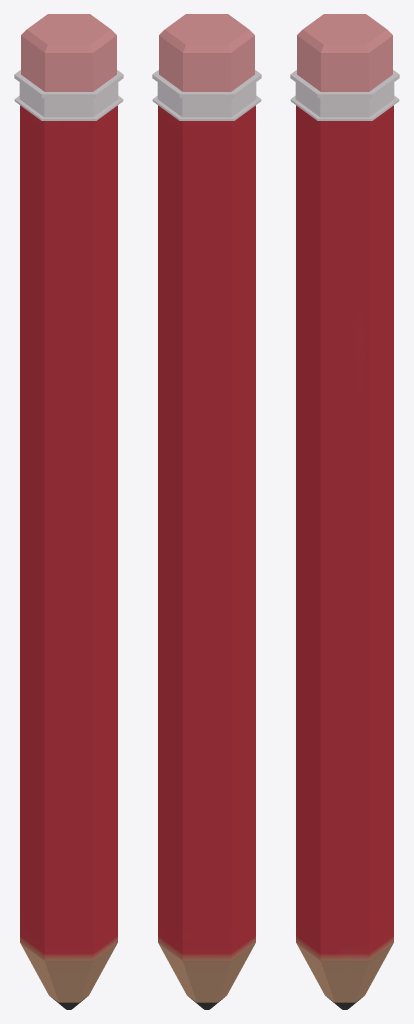
The model's file is Pencil.glb.
3 views of the same model, side by side, from view 1: azimuth 90°, elevation 25°; view 2: azimuth 150°, elevation 25°; view 3: azimuth 270°, elevation 25° (orthographic).
Parts seen in each view (by area): view 1: pencil; view 2: pencil; view 3: pencil.
Boxes of the visible parts, x1,y1,x2,y2 form: pencil: (14, 14, 123, 1009); pencil: (152, 14, 261, 1009); pencil: (290, 14, 399, 1009).
Bounding box in the file's own units: 0.0112 × 0.1273 × 0.0129.
Materials: 1 (1 with a texture image).
